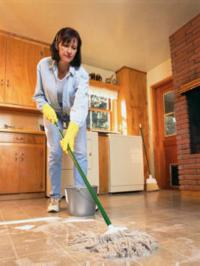person: (32, 27, 100, 214)
